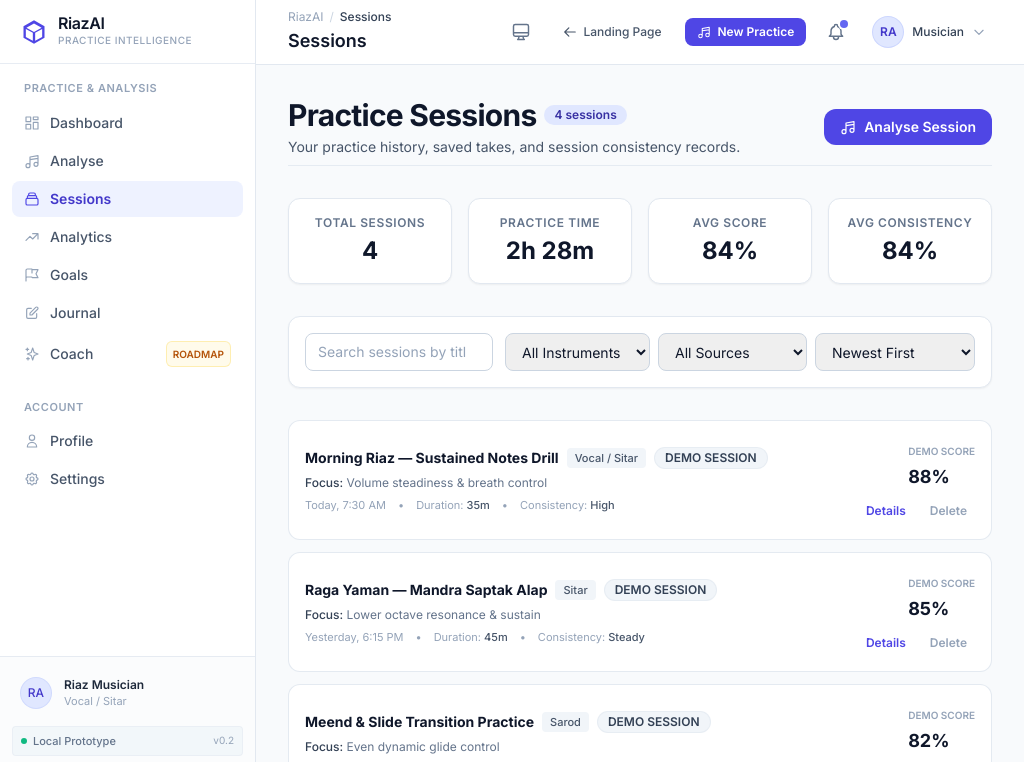
Test: Milestone 5 — Sessions & Analytics › 8. Deleting a session removes it from the list
The width and height of the screenshot is (1024, 762).
Check: the heading "Morning Riaz — Sustained Notes Drill" is shown, box [305,448,559,468]
Note: Click Delete on first session
Click the button with aria-label "Delete session" at (948, 511), box [922,499,975,523]
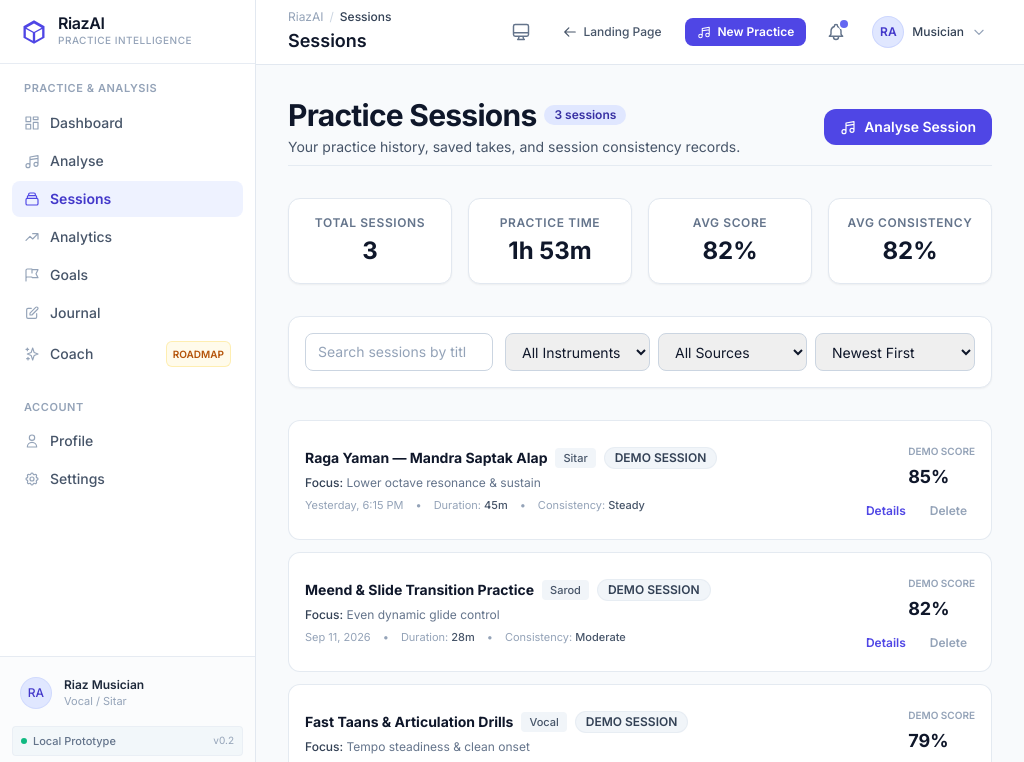
Check: the heading "Morning Riaz — Sustained Notes Drill" is gone
